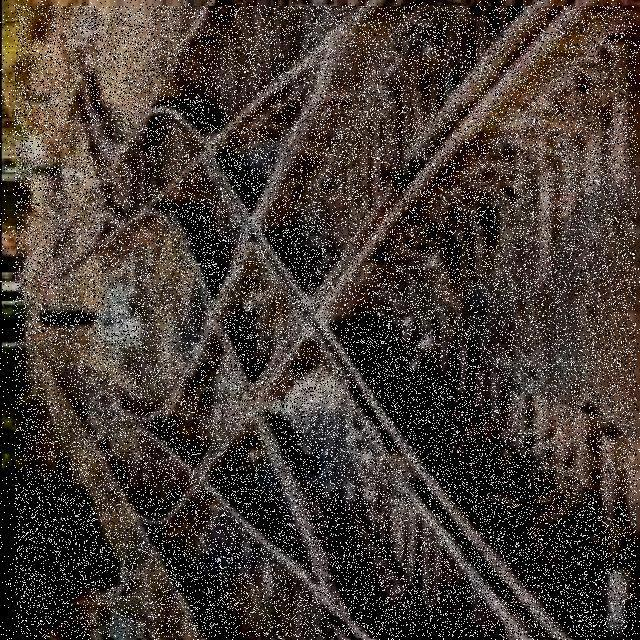rail: (16, 6, 636, 637)
